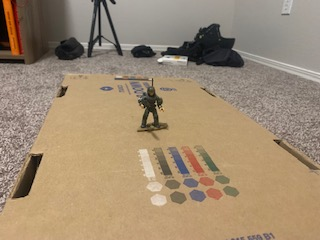soldier: (138, 77, 169, 136)
